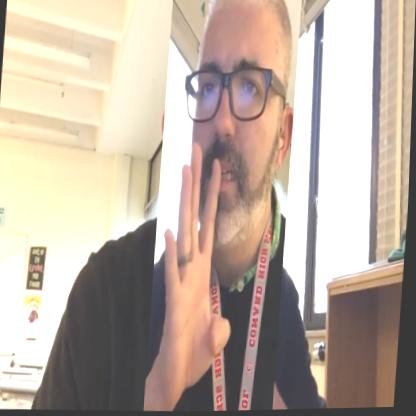Talk: (146, 0, 302, 413)
